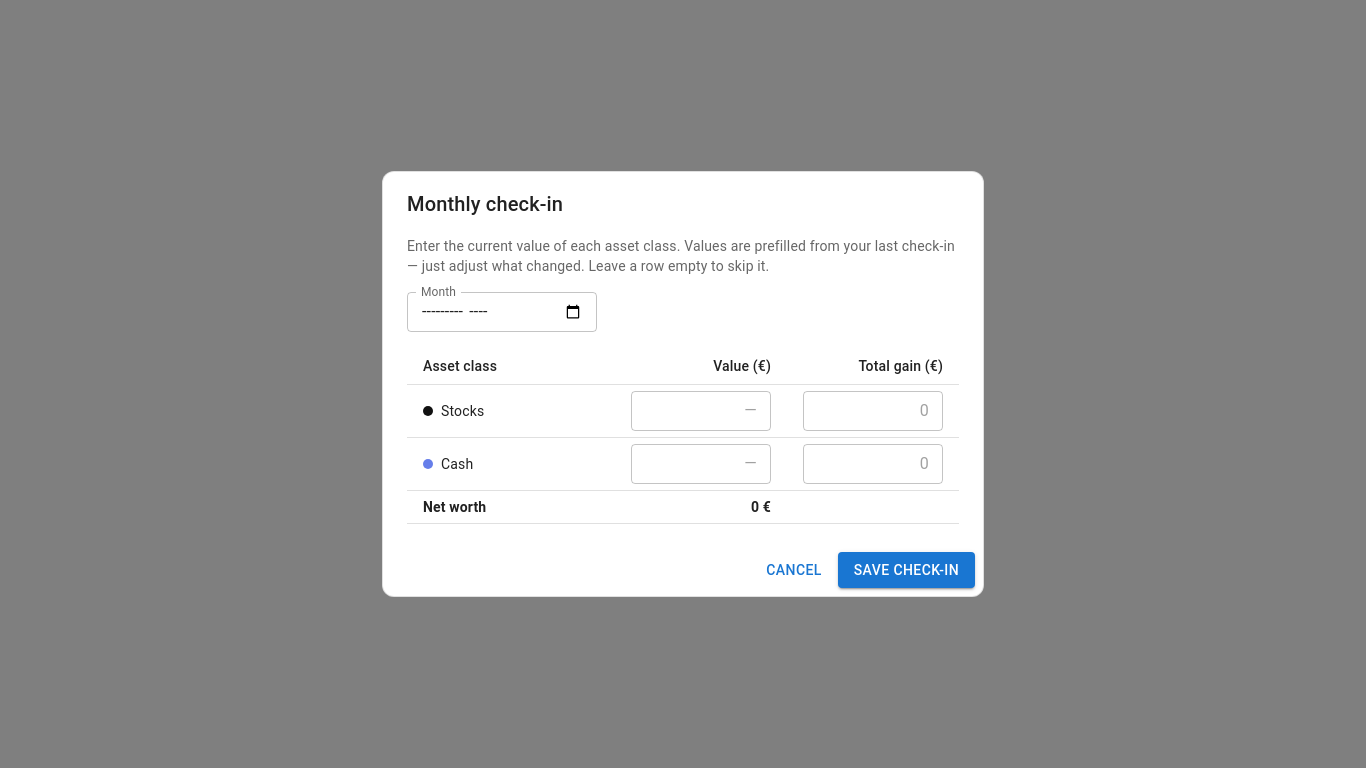
Test case: requires a valid month before submitting
Type "100" into the field with placeholder "—" next to "Stocks".
click(701, 411); type("100")  # box [631,391,771,431]
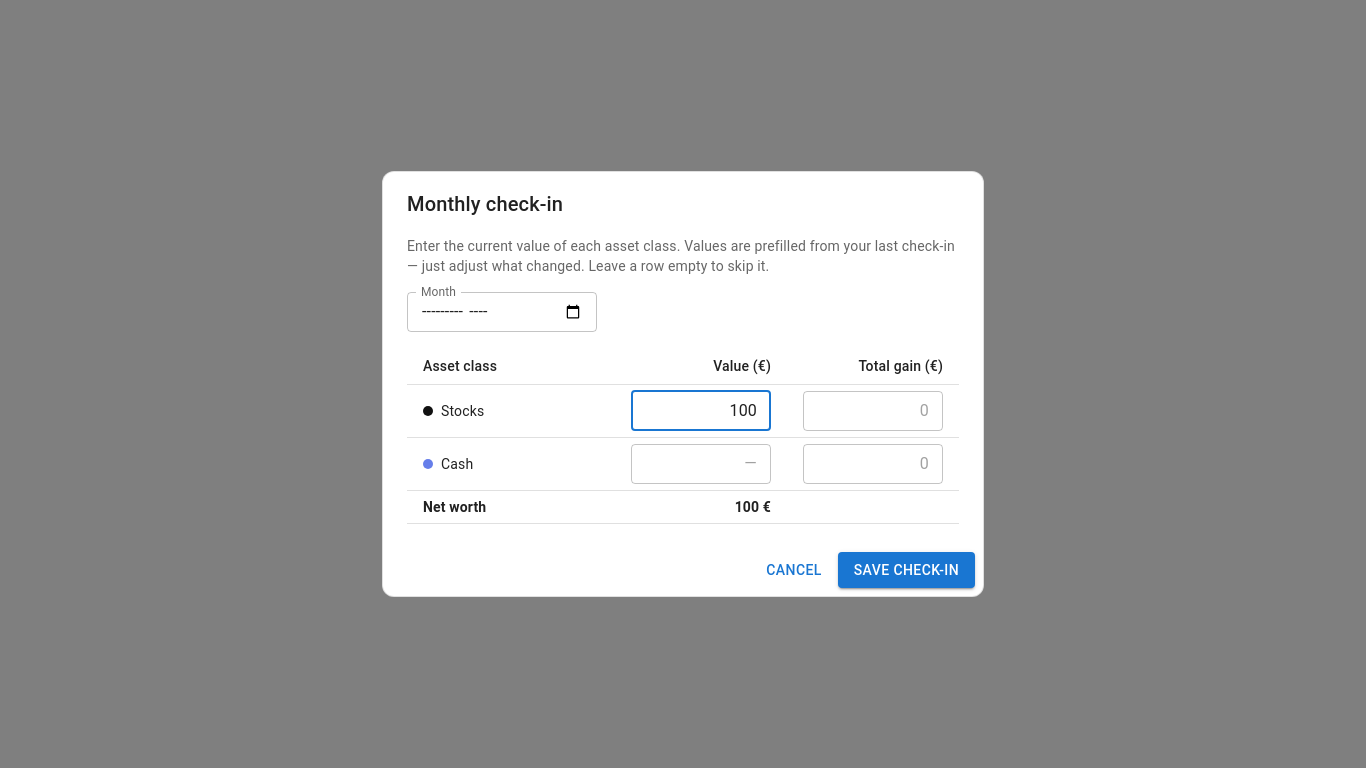
Click the button "Save check-in".
click(906, 570)  # box [838,552,975,588]
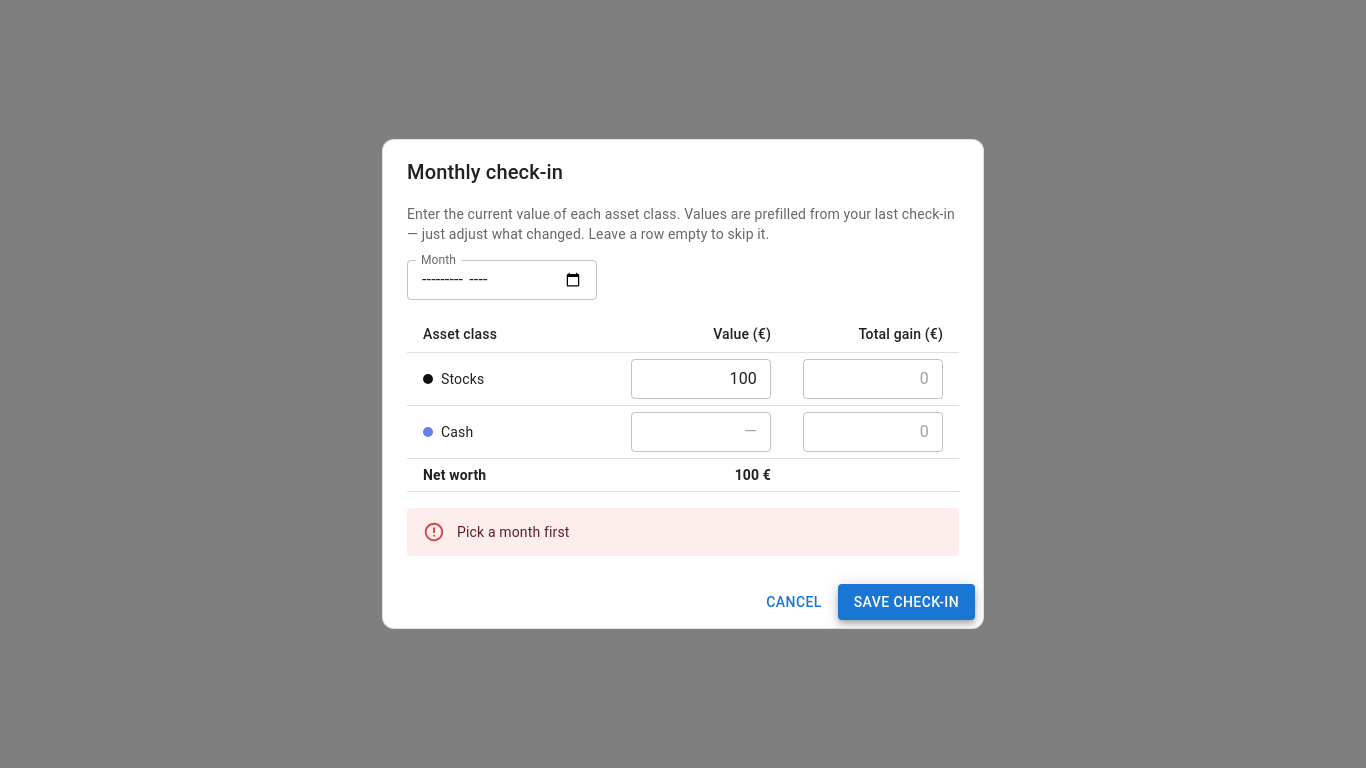
Check: the text "Pick a month first" is shown, box [457,524,570,540]
